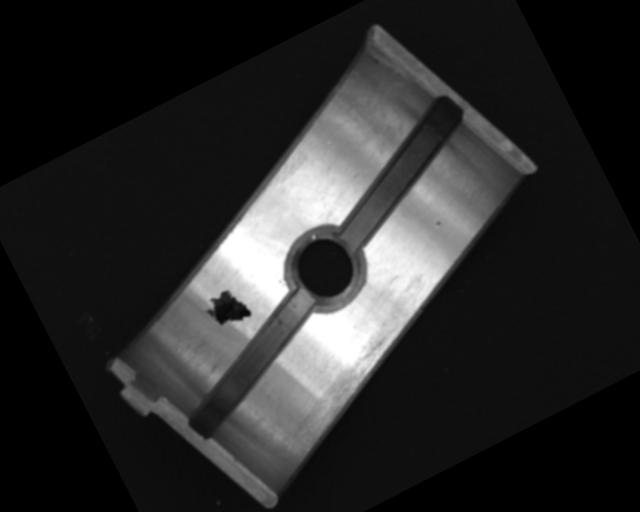blot: (199, 283, 255, 336)
bruise: (432, 218, 444, 230)
gap: (307, 93, 495, 253), (158, 287, 346, 441)
hole: (273, 215, 376, 320)
scratch: (269, 320, 437, 456)
